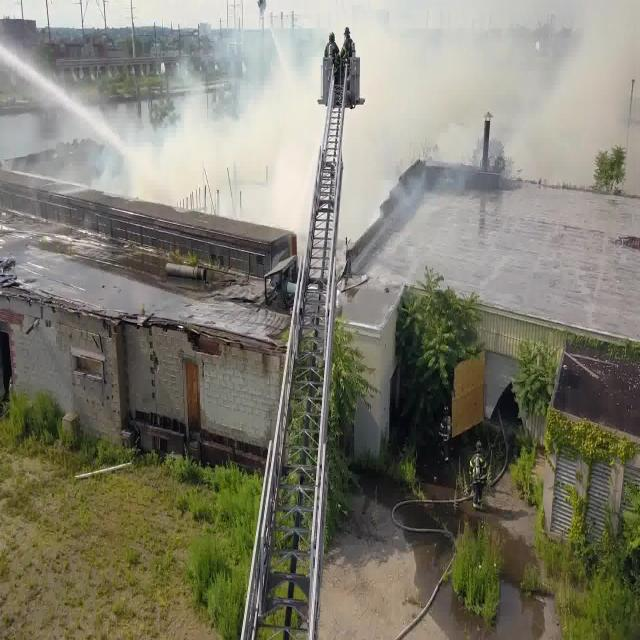Smoke: (107, 1, 636, 254)
